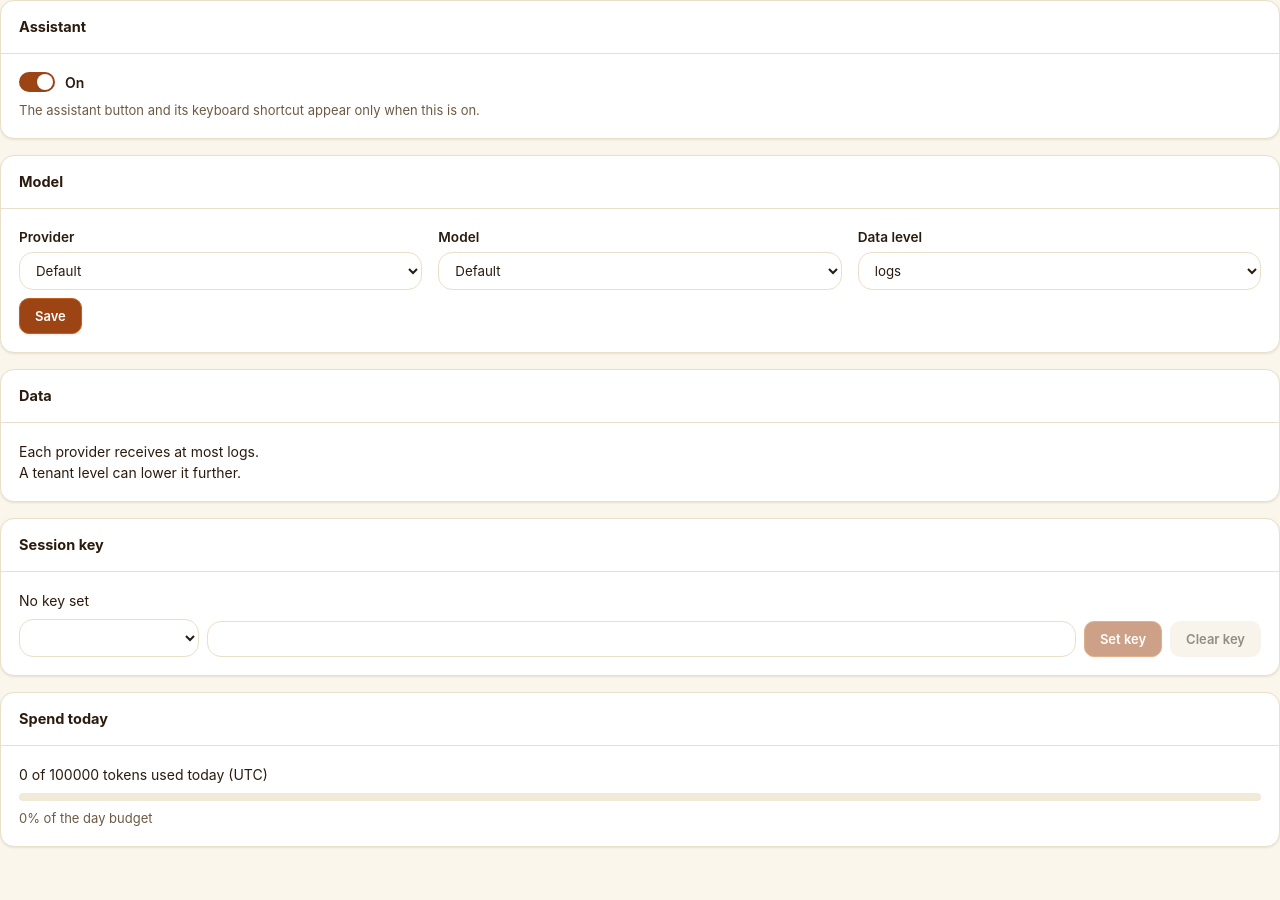
Test: ProfileAssistantTab › shows the server message when a save is refused
Click the button "Save": (50, 316) [19,298,82,334]
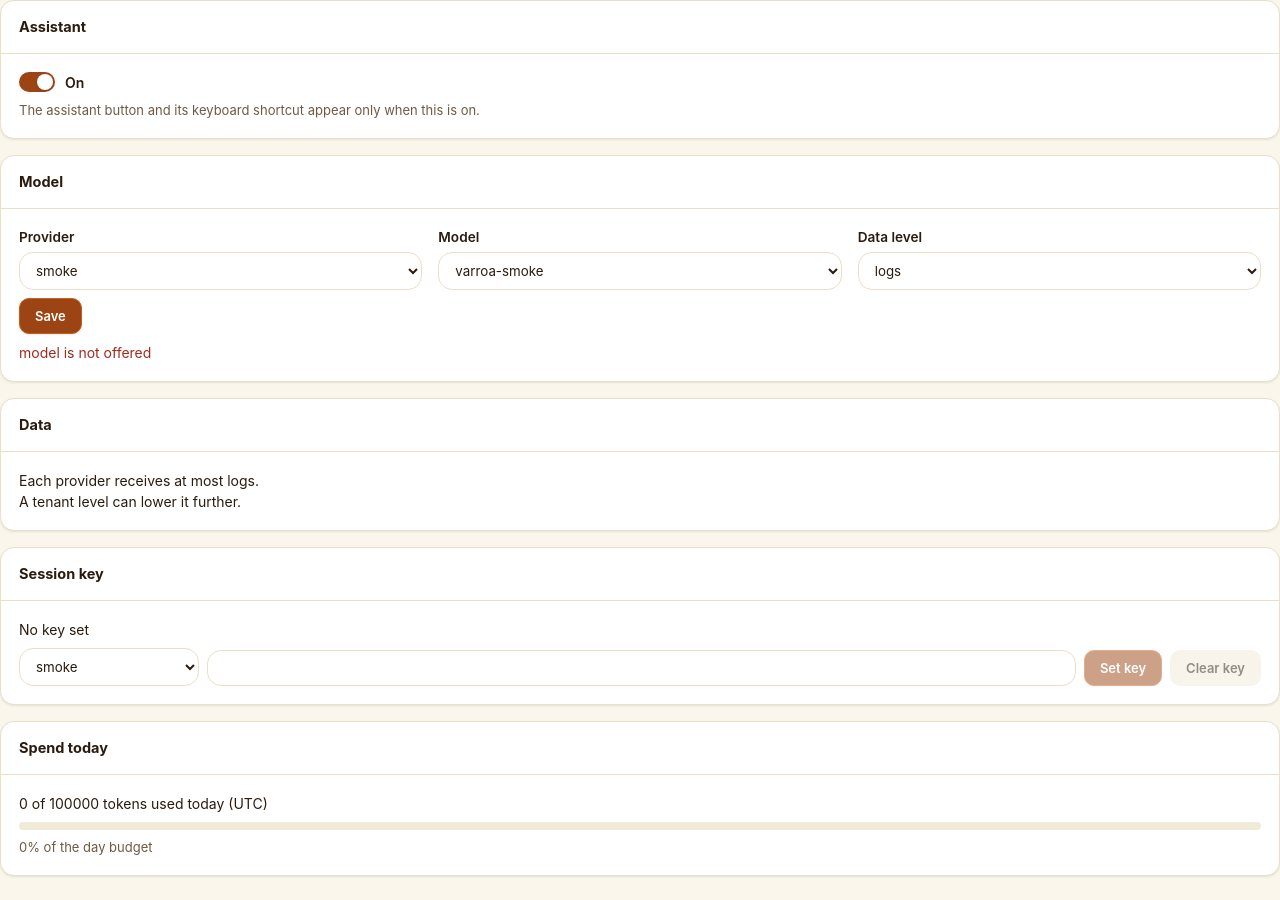
Now the text "model is not offered" is shown, box [19,344,151,361]
